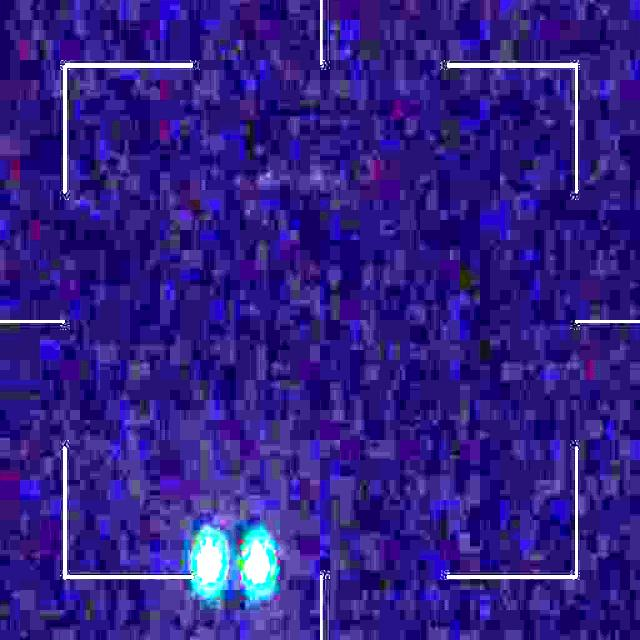bird: (192, 535, 271, 591)
